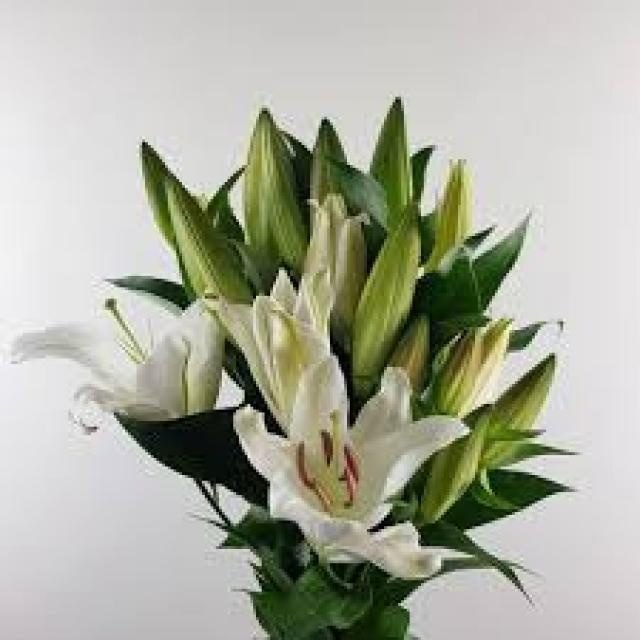lily: (218, 326, 476, 594)
